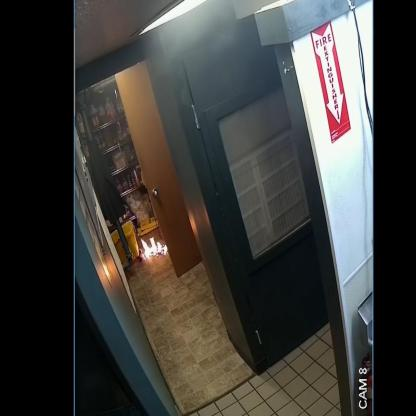fire: (140, 236, 168, 258)
